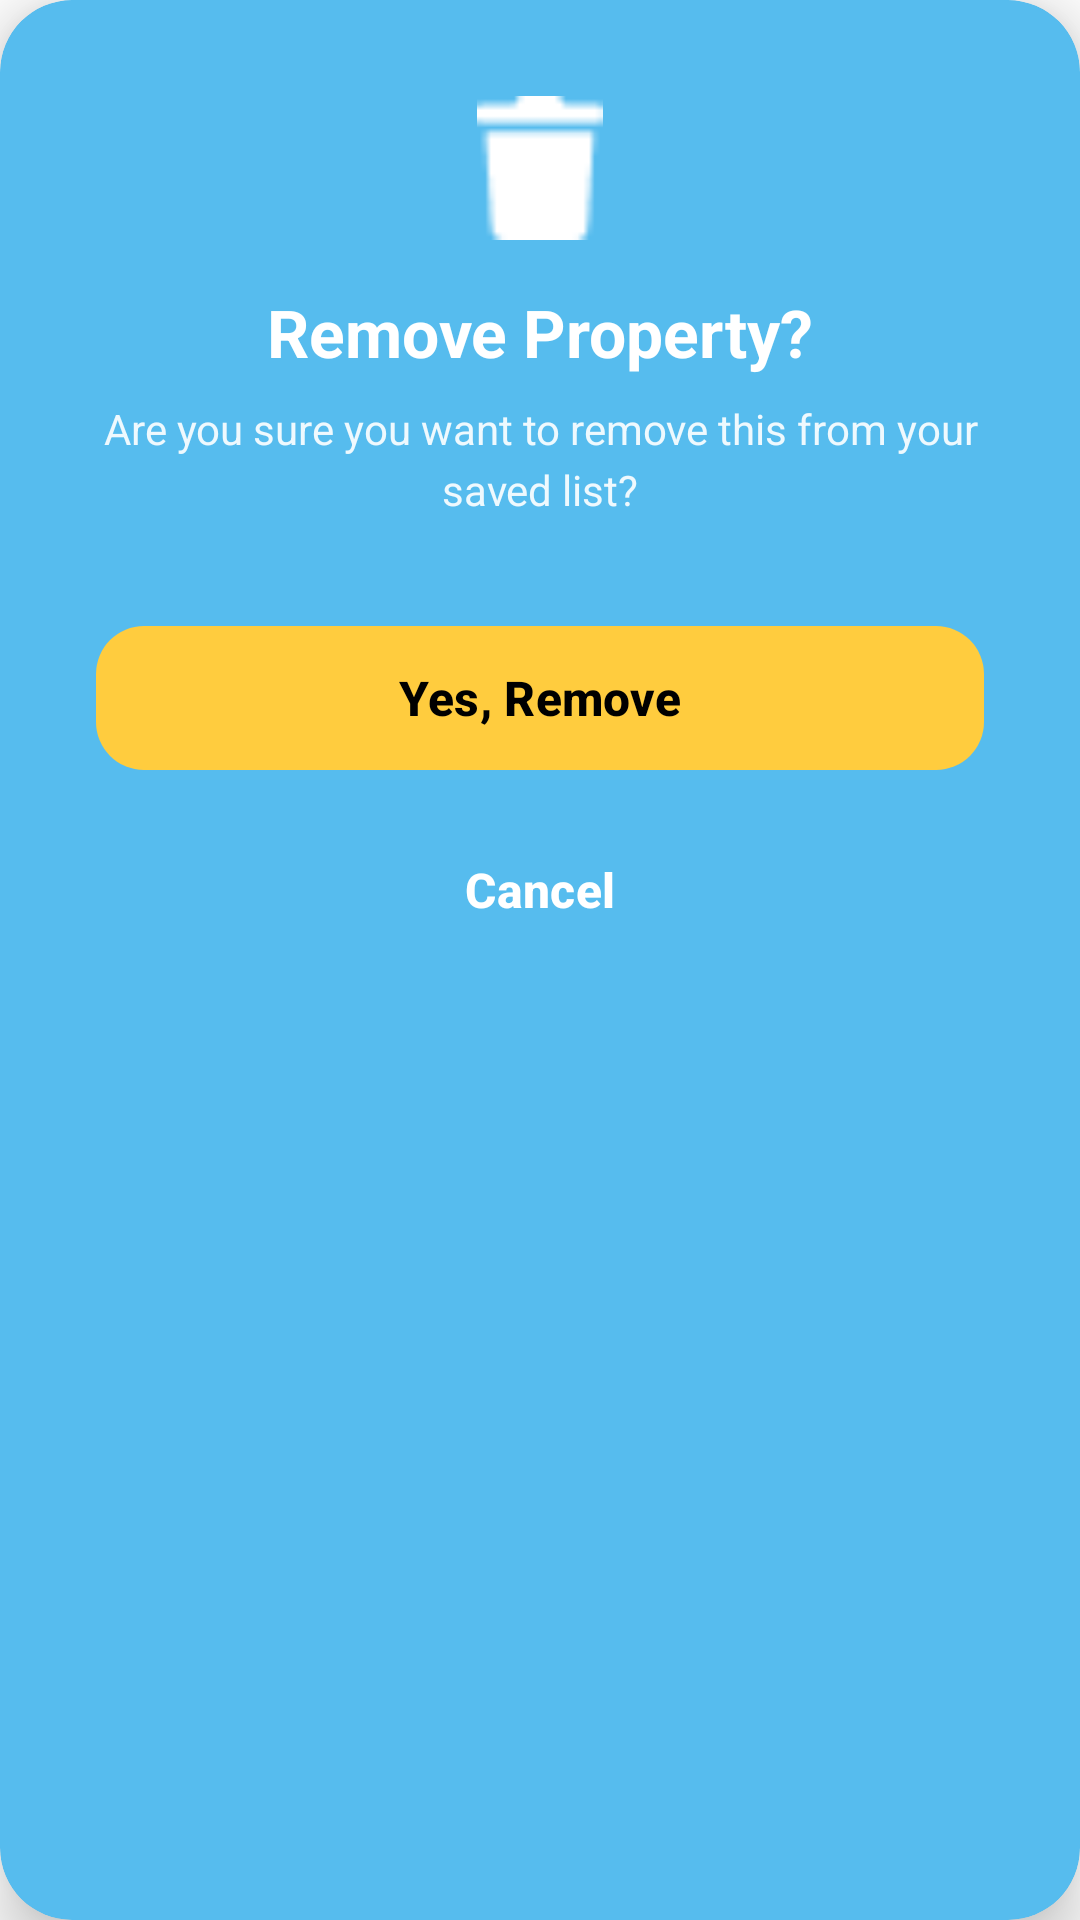

Icons on this 1080*1920 Android screen, each with the point to tap as (x,y):
delete: (540,168)
